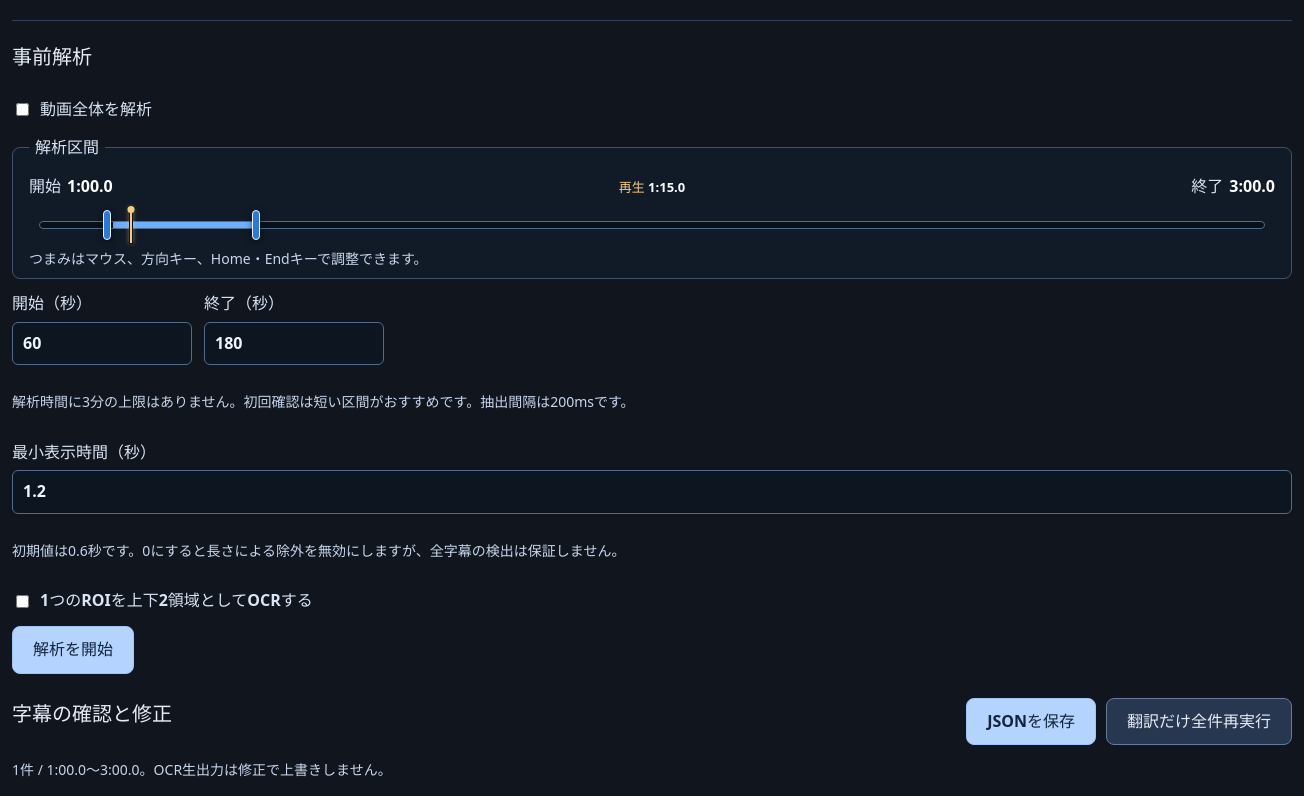
Test: saves the current UTF-8 project through the atomic backend command
This screenshot has width=1304, height=796.
Click the button "JSONを保存". click: click(1031, 721)
box: [966, 698, 1096, 745]
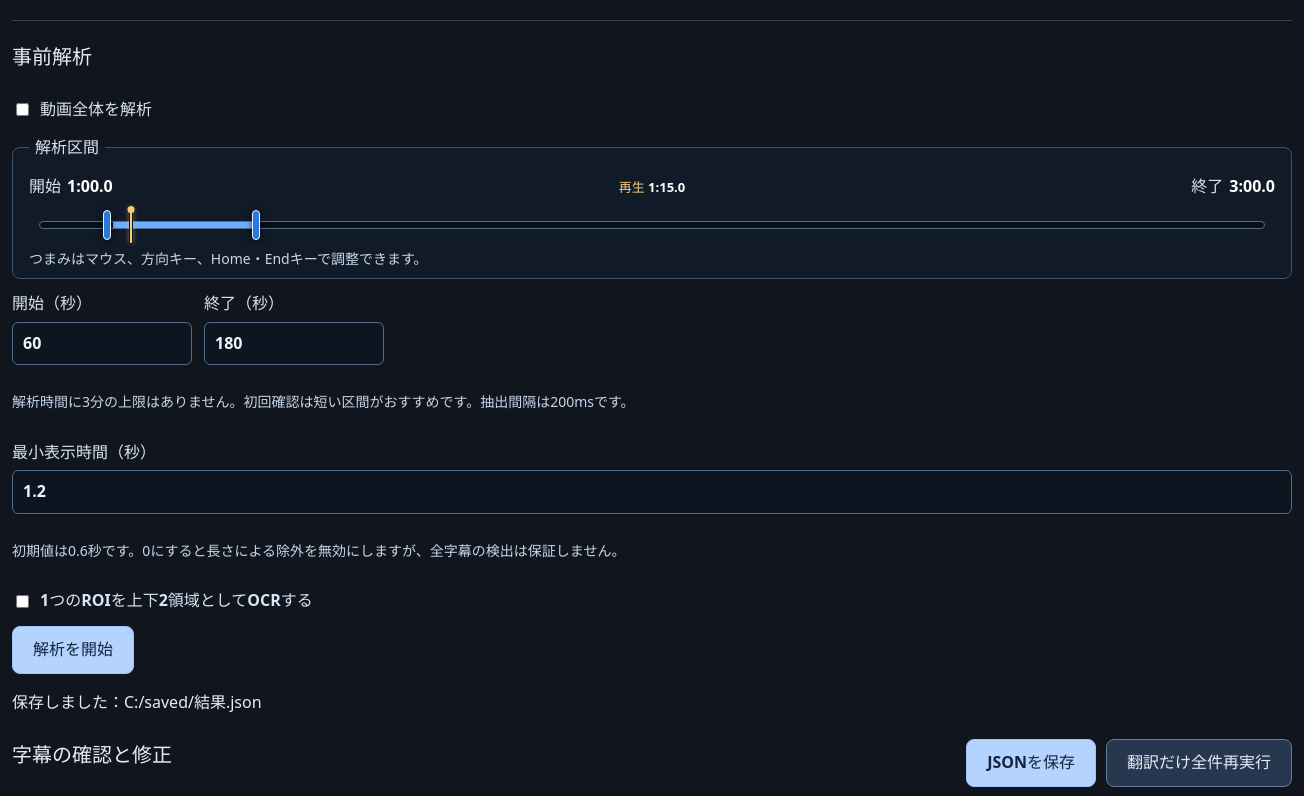
Expected: the message shows "結果.json", [12, 690, 262, 712]
